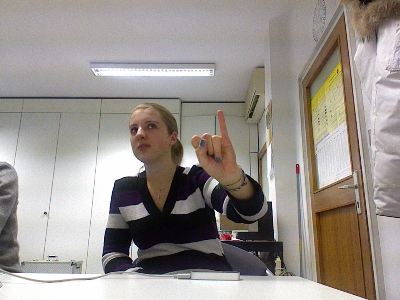小指: (190, 107, 240, 183)
